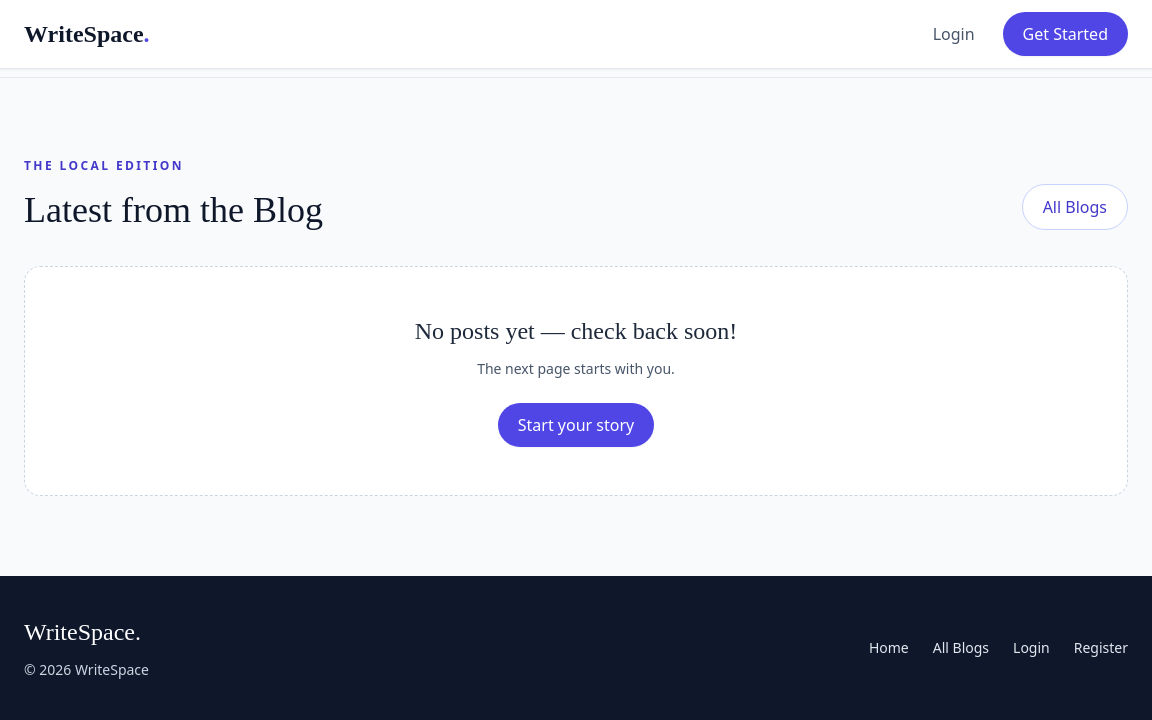
Scenario: LandingPage › navigates the guest CTA Start your story to /register and allows return by link
The width and height of the screenshot is (1152, 720).
(page scrolled)
Click the link "Start your story".
click(576, 425)  # box [498,403,654,447]
(page scrolled)
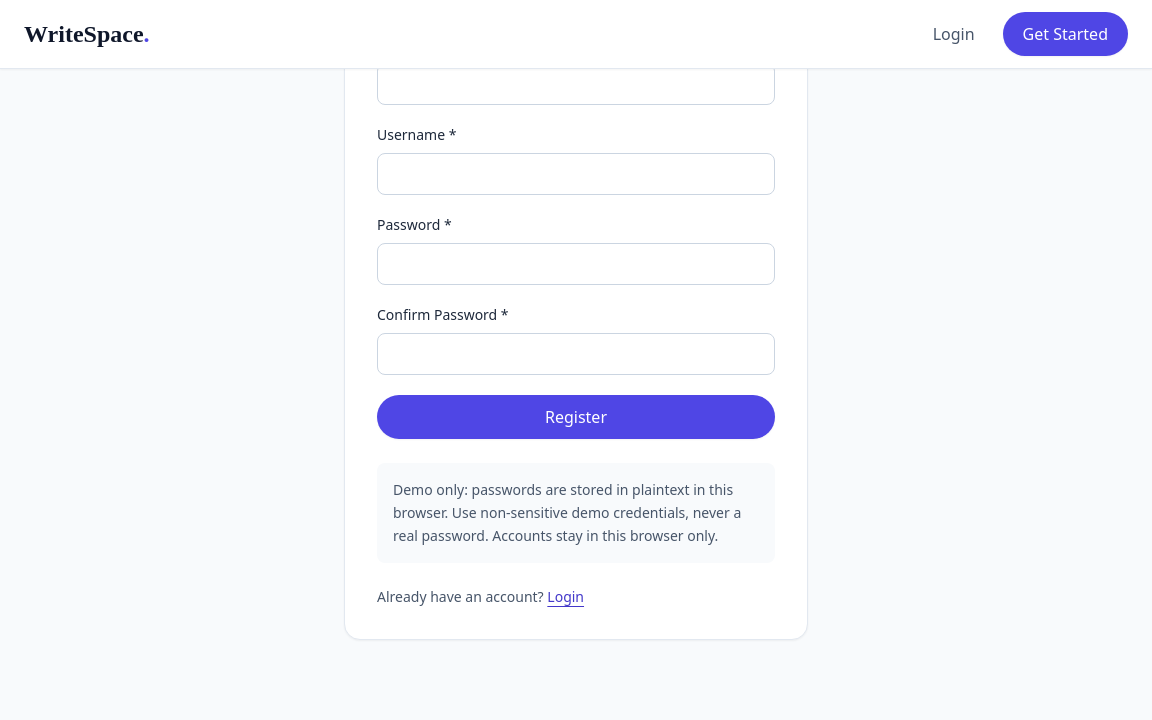
Click the link "WriteSpace.".
click(87, 34)  # box [24,18,150,50]
(page scrolled)
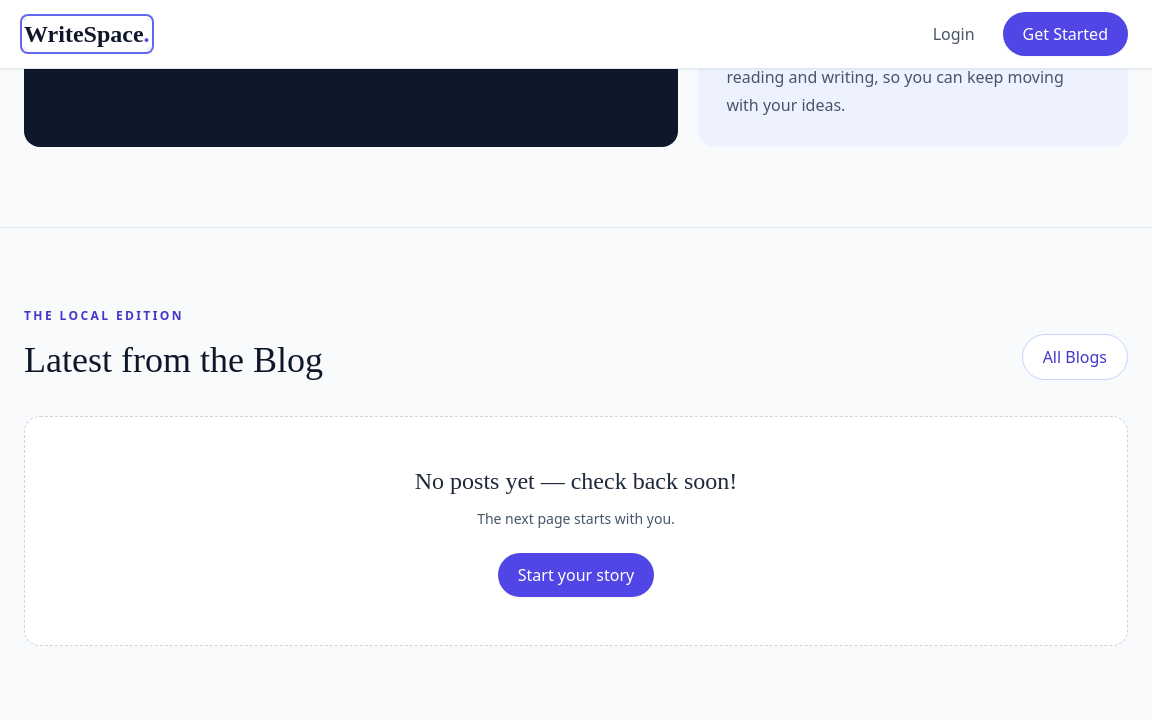
expect the heading "Latest from the Blog" is shown: met, box [24,340,323,380]
